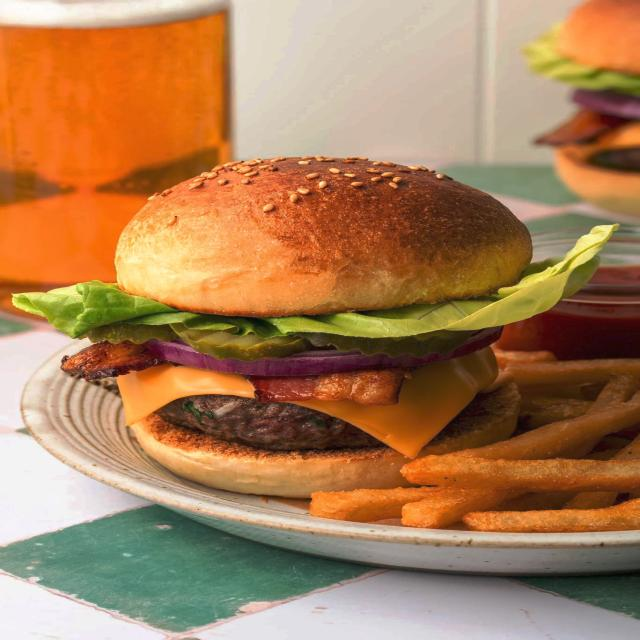burger: (59, 154, 524, 477)
drink: (1, 6, 228, 298)
french fries: (310, 348, 638, 534)
ketchup: (552, 316, 640, 352), (604, 253, 640, 332)
